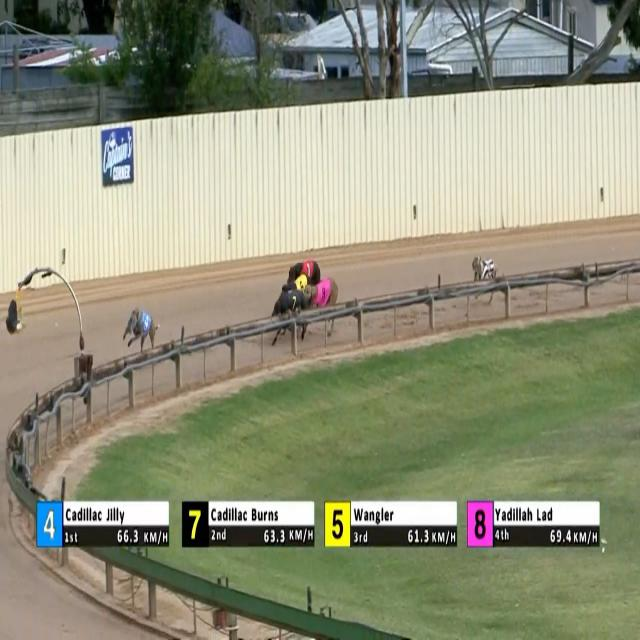dog_eight: (319, 283, 332, 308)
dog_five: (296, 274, 309, 298)
dog_four: (140, 312, 154, 336)
dog_one: (304, 259, 316, 284)
dog_seven: (289, 292, 301, 316)
dog_two: (482, 258, 496, 280)
rail: (7, 260, 638, 635)
